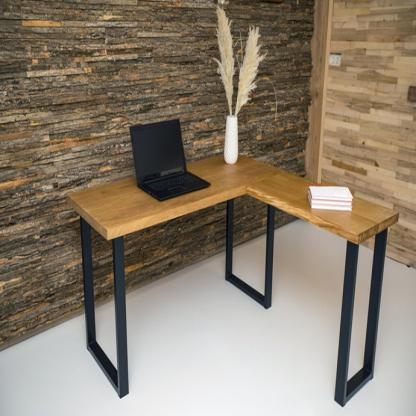table: (62, 141, 402, 410)
